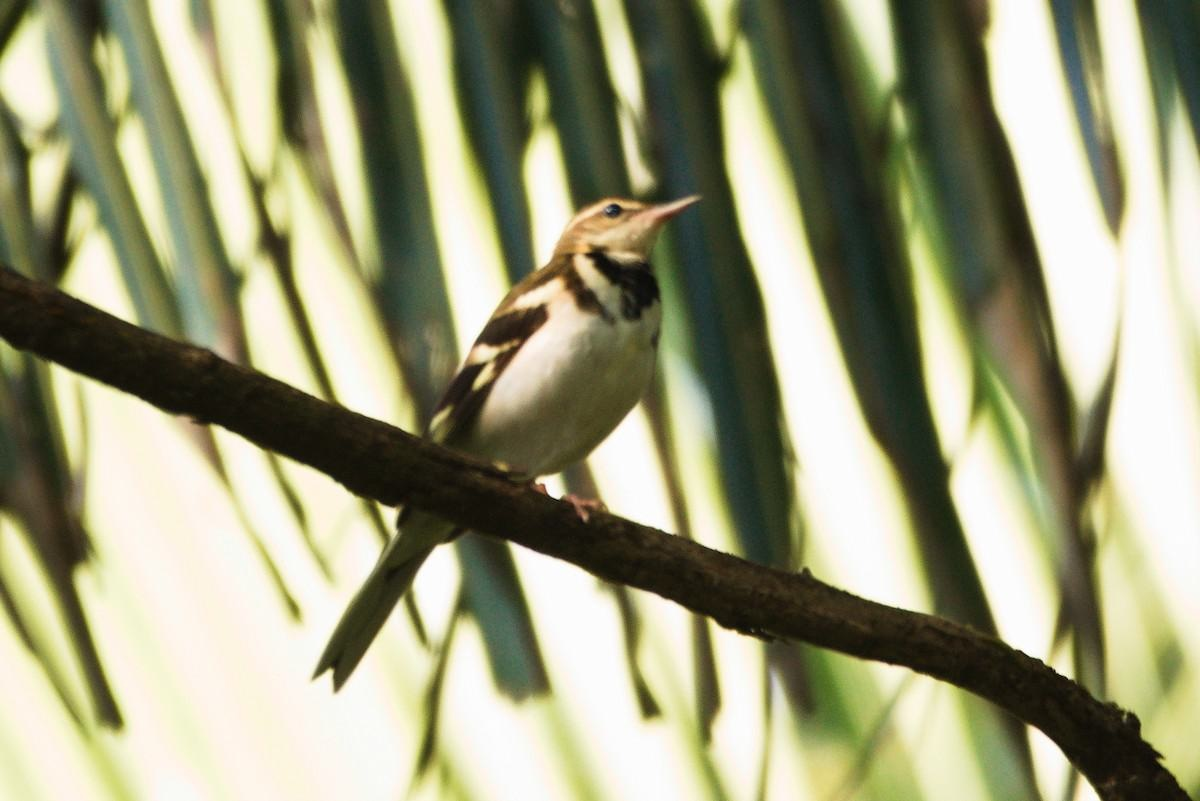wagtail: (329, 154, 766, 603)
